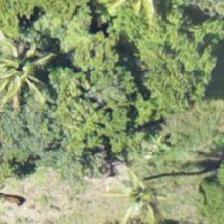Kelapa_Sawit: (96, 150, 187, 223), (0, 27, 66, 117)
